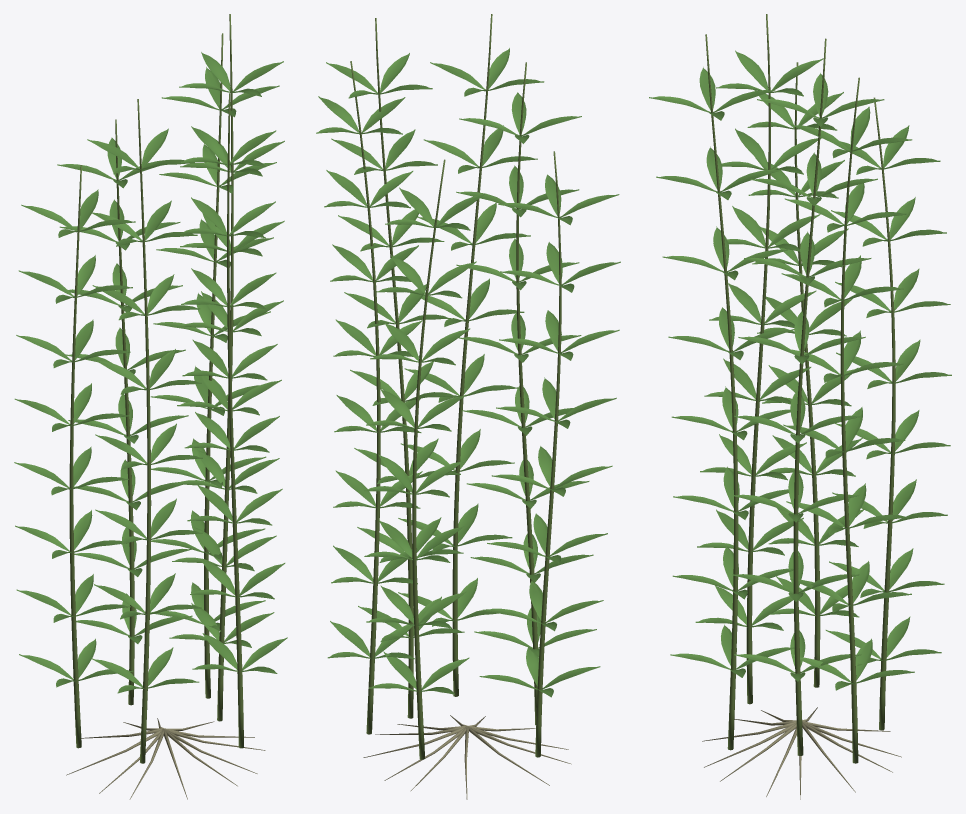
Rendered from waterweed-mobile.glb.
3 renders of one model, left to right at view 1: azimuth 30°, elevation 25°; view 2: azimuth 150°, elevation 25°; view 3: azimuth 270°, elevation 25°, orthographic. The views are drawn at different scales.
Parts seen in each view (by area): view 1: opposite-leaf, branching-stem, anchoring-root; view 2: opposite-leaf, branching-stem, anchoring-root; view 3: opposite-leaf, branching-stem, anchoring-root.
Part boxes in pixels (left/top/right/bottom): opposite-leaf: left=14, top=52, right=287, bottom=693; branching-stem: left=69, top=14, right=244, bottom=763; anchoring-root: left=66, top=718, right=265, bottom=799; opposite-leaf: left=316, top=48, right=620, bottom=697; branching-stem: left=350, top=14, right=561, bottom=759; anchoring-root: left=363, top=715, right=571, bottom=799; opposite-leaf: left=649, top=50, right=951, bottom=690; branching-stem: left=705, top=14, right=895, bottom=763; anchoring-root: left=702, top=707, right=901, bottom=799.
Size of the model in its own units: 0.3737 by 0.9807 by 0.3566.
